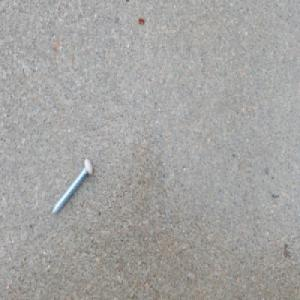Nail: (50, 156, 93, 217)
